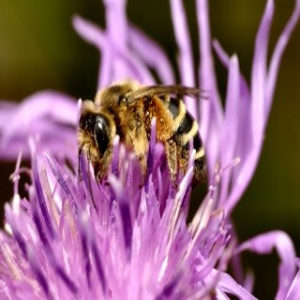bee: (77, 81, 216, 216)
